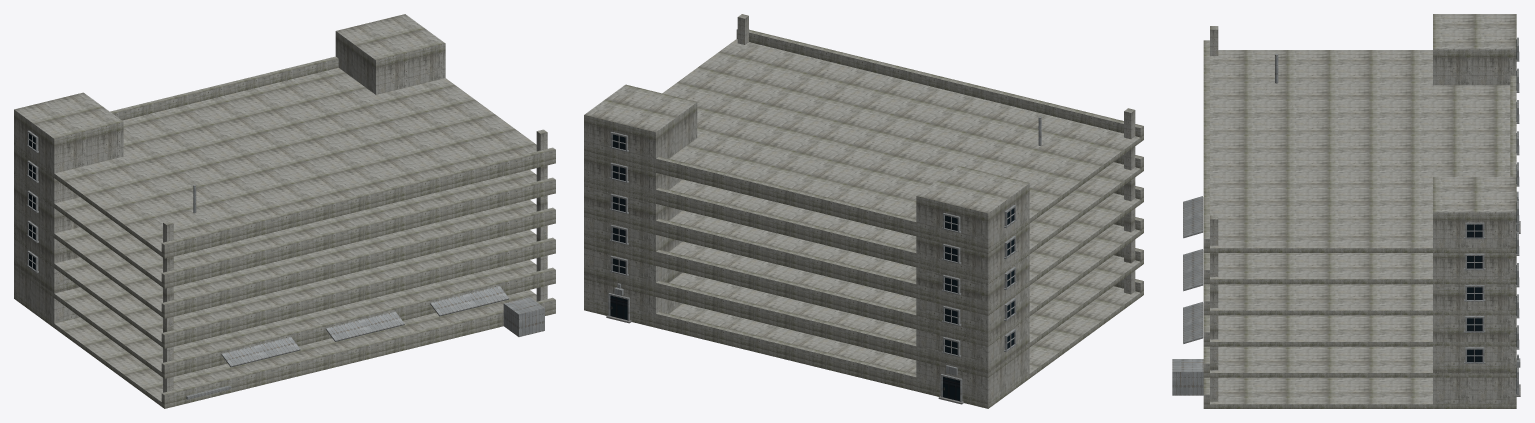
File: beaubien-parking-garage_lod0.gltf
3 views of the same model, side by side, from view 1: azimuth 30°, elevation 25°; view 2: azimuth 150°, elevation 25°; view 3: azimuth 270°, elevation 25° (orthographic). The views are drawn at different scales.
Visible parts, largest first — view 1: beaubien-parking-garage_decks, beaubien-parking-garage_stairs, beaubien-parking-garage_columns, beaubien-parking-garage__ticket_booth, beaubien-parking-garage__awning_a, beaubien-parking-garage__awning_c, beaubien-parking-garage__awning_b, beaubien-parking-garage_fen_14-steel-panel_0; view 2: beaubien-parking-garage_decks, beaubien-parking-garage_stairs, beaubien-parking-garage_fen_14-steel-panel_0, beaubien-parking-garage_fen_07-glass-curtain-blue_1_t, beaubien-parking-garage_columns; view 3: beaubien-parking-garage_decks, beaubien-parking-garage_stairs, beaubien-parking-garage_fen_14-steel-panel_0, beaubien-parking-garage_columns, beaubien-parking-garage_fen_07-glass-curtain-blue_1_t, beaubien-parking-garage__ticket_booth, beaubien-parking-garage__awning_a, beaubien-parking-garage__awning_b, beaubien-parking-garage__awning_c.
Part boxes in pixels (x1,y1,x2,y2): beaubien-parking-garage_decks: (14, 56, 555, 408); beaubien-parking-garage_stairs: (14, 14, 445, 326); beaubien-parking-garage_columns: (163, 129, 547, 392); beaubien-parking-garage__ticket_booth: (503, 297, 544, 336); beaubien-parking-garage__awning_a: (221, 337, 300, 367); beaubien-parking-garage__awning_c: (430, 286, 509, 316); beaubien-parking-garage__awning_b: (325, 311, 404, 341); beaubien-parking-garage_fen_14-steel-panel_0: (26, 130, 38, 272); beaubien-parking-garage_decks: (584, 29, 1143, 408); beaubien-parking-garage_stairs: (584, 84, 1029, 407); beaubien-parking-garage_fen_14-steel-panel_0: (608, 132, 1016, 402); beaubien-parking-garage_fen_07-glass-curtain-blue_1_t: (610, 134, 1014, 401); beaubien-parking-garage_columns: (737, 14, 1135, 294); beaubien-parking-garage_decks: (1203, 40, 1516, 408); beaubien-parking-garage_stairs: (1433, 14, 1516, 408); beaubien-parking-garage_fen_14-steel-panel_0: (1464, 37, 1520, 394); beaubien-parking-garage_columns: (1210, 26, 1218, 401); beaubien-parking-garage_fen_07-glass-curtain-blue_1_t: (1467, 39, 1516, 393); beaubien-parking-garage__ticket_booth: (1172, 359, 1203, 395); beaubien-parking-garage__awning_a: (1183, 196, 1203, 238); beaubien-parking-garage__awning_b: (1183, 249, 1203, 291); beaubien-parking-garage__awning_c: (1183, 302, 1203, 343).
Bounding box in the file's own units: 45.55 × 20.8 × 33.4.
